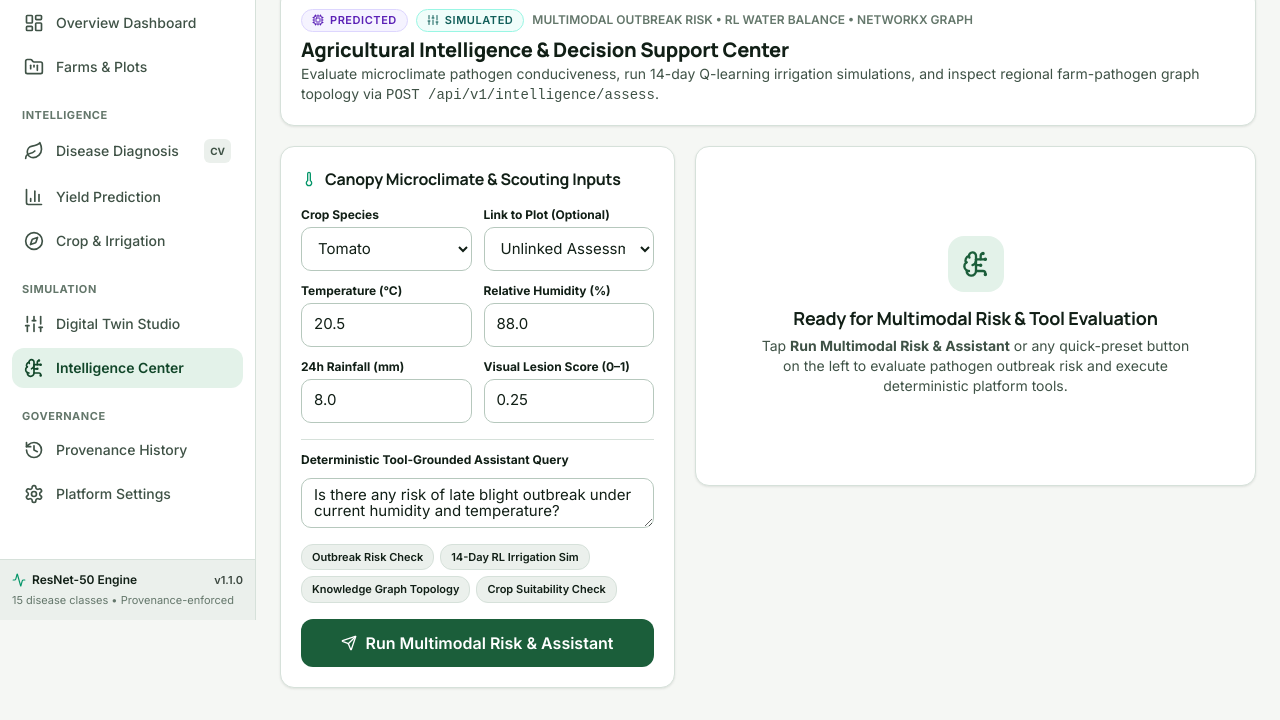
Test: Module Routing, API Submissions & Form Validation › submits Multimodal Intelligence Assessment and displays outbreak risk & assistant output
This screenshot has width=1280, height=720.
(page scrolled)
Check: the heading "Agricultural Intelligence & Decision Support Center" is shown, box [301,36,789,62]
Click the button "Run Multimodal Risk & Assistant".
click(478, 642)  # box [301,618,654,666]
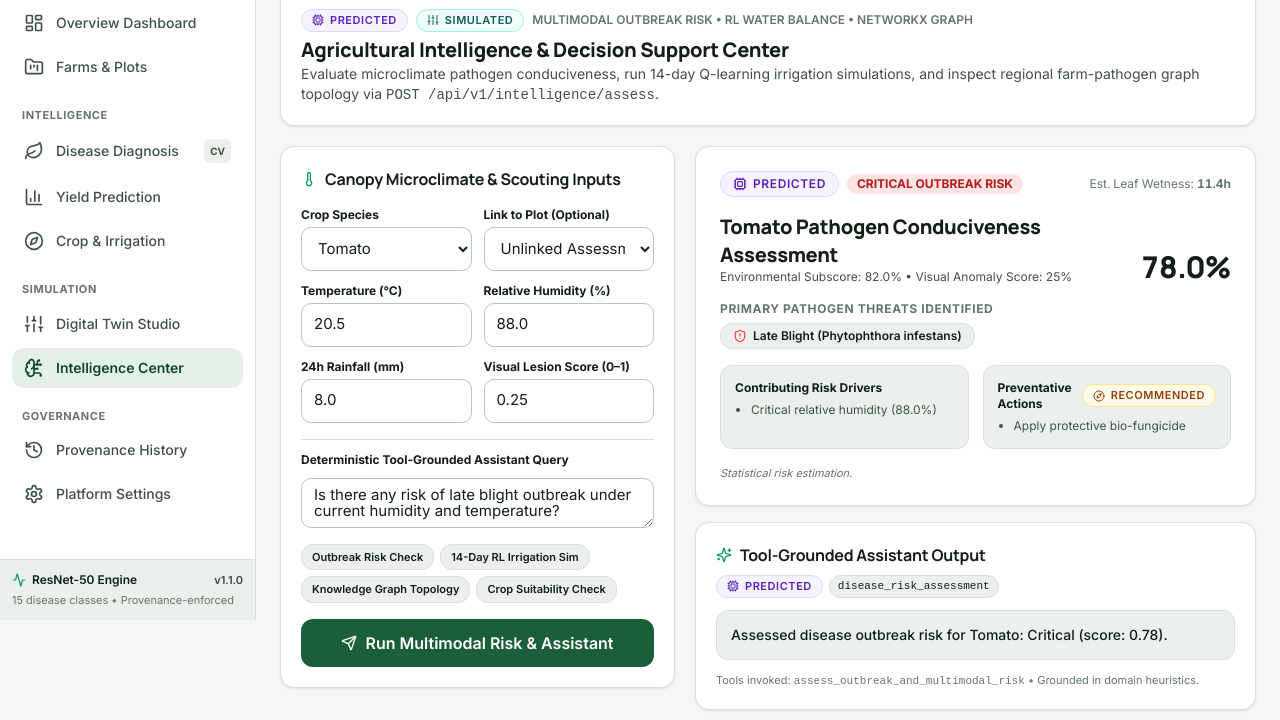
Check: the text "Critical Outbreak Risk" is shown, box [847,174,1023,194]
Check: the text "Late Blight (Phytophthora infestans)" is shown, box [720,322,975,348]
